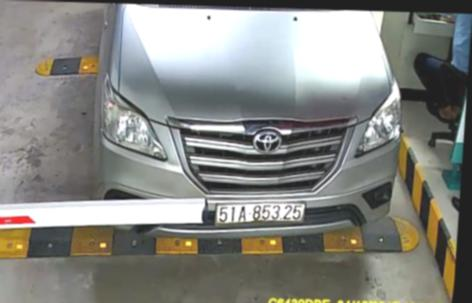License_Plate: (212, 199, 311, 227)
